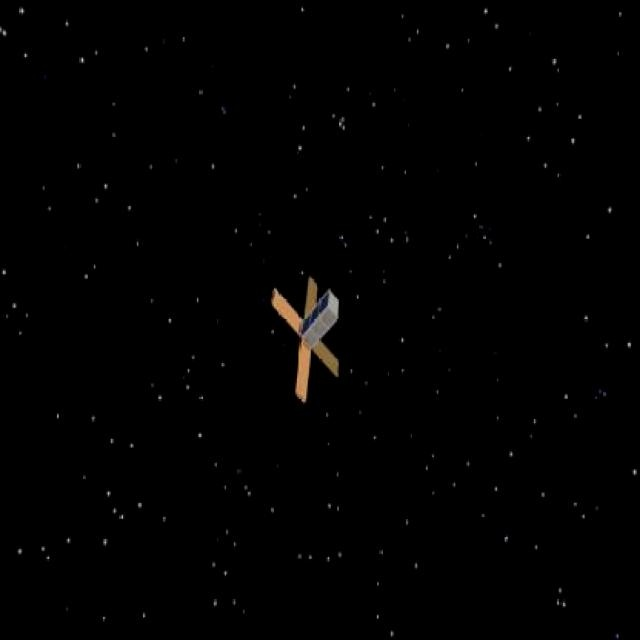satellite: (253, 273, 359, 405)
